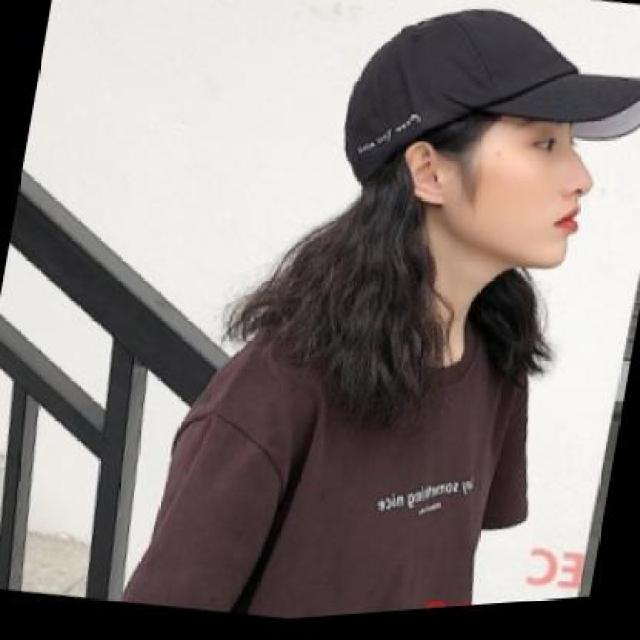hat: (327, 0, 640, 243)
